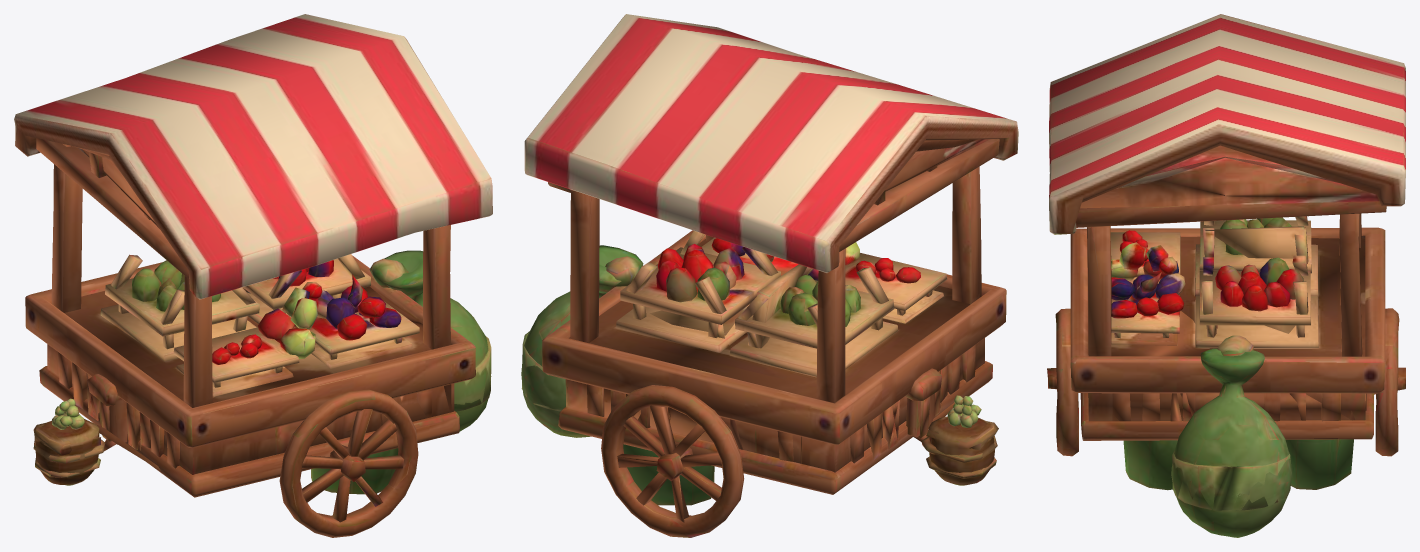
Rendered from cart_market_1.glb.
3 renders of one model, left to right at view 1: azimuth 30°, elevation 25°; view 2: azimuth 150°, elevation 25°; view 3: azimuth 270°, elevation 25°, orthographic. The views are drawn at different scales.
Visible parts, largest first — view 1: Mesh_0; view 2: Mesh_0; view 3: Mesh_0.
Part boxes in pixels (box(x1,y1,x2,y2)): Mesh_0: box(14, 14, 492, 537); Mesh_0: box(521, 14, 1018, 537); Mesh_0: box(1047, 14, 1405, 537).
Bounding box in the file's own units: 0.9512 × 0.849 × 0.706.
Materials: 1 (1 with a texture image).
